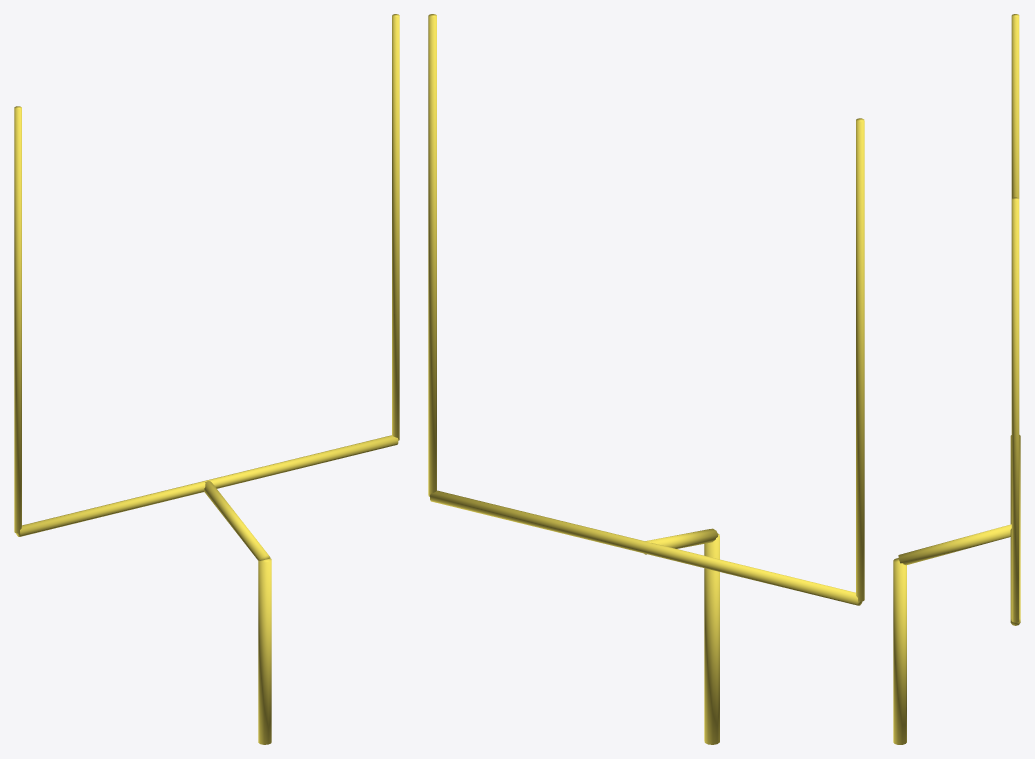
File: park_goalpost.glb
3 views of the same model, side by side, from view 1: azimuth 30°, elevation 25°; view 2: azimuth 150°, elevation 25°; view 3: azimuth 270°, elevation 25° (orthographic). The views are drawn at different scales.
Parts seen in each view (by area): view 1: park_goalpost; view 2: park_goalpost; view 3: park_goalpost.
Boxes of the visible parts, bbox=[...] form: park_goalpost: bbox=[14, 14, 399, 744]; park_goalpost: bbox=[428, 14, 864, 744]; park_goalpost: bbox=[893, 14, 1020, 744].
Bounding box in the file's own units: 5.74 × 9.1 × 1.66.
